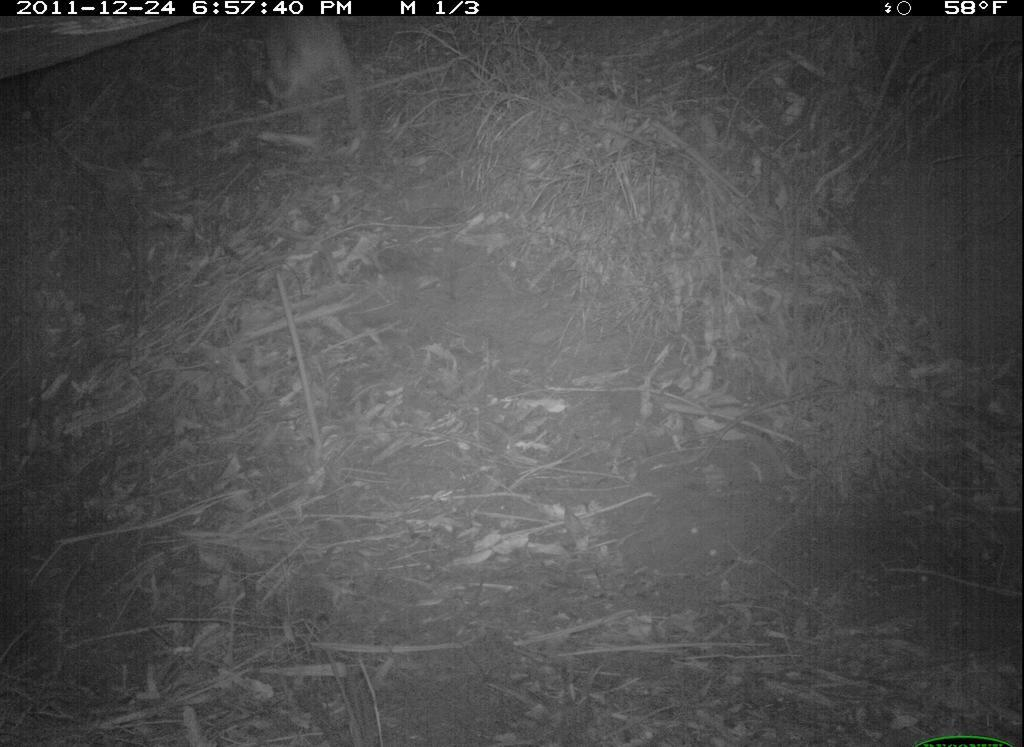dog: (242, 1, 392, 155)
